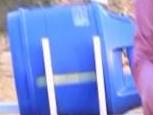cylinder: (1, 1, 153, 115)
